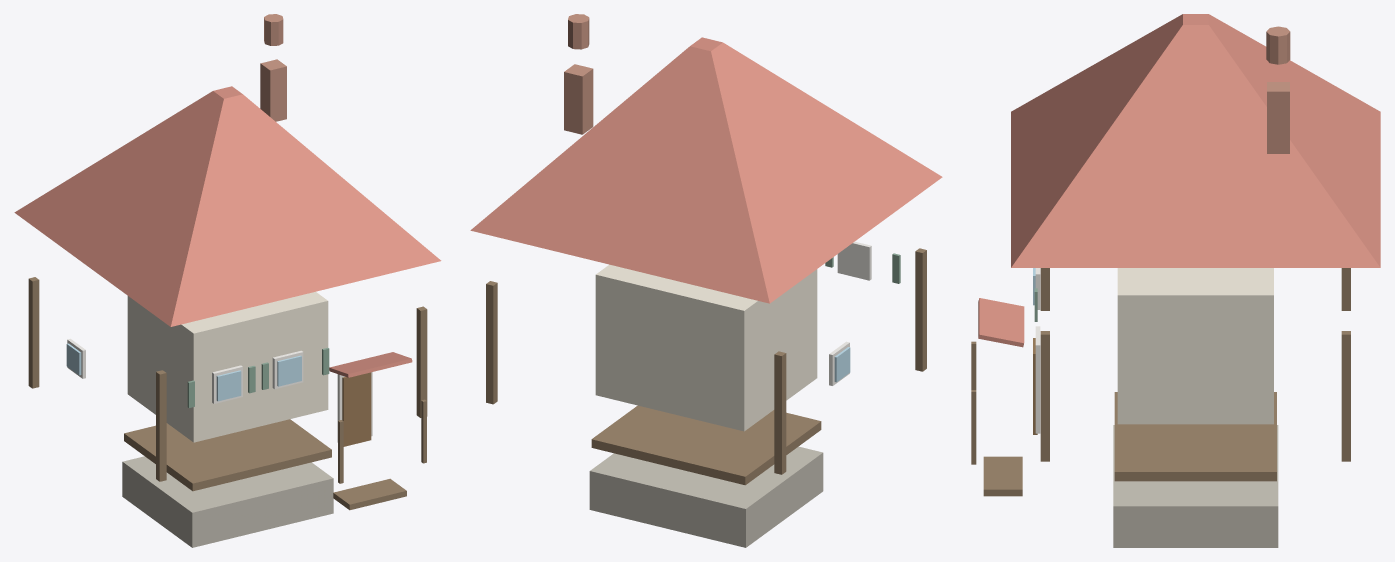
Rendered from house.glb.
The picture shows the model from 3 angles, left to right: view 1: azimuth 30°, elevation 25°; view 2: azimuth 150°, elevation 25°; view 3: azimuth 270°, elevation 25°; orthographic projection. The views are drawn at different scales.
Parts seen in each view (by area): view 1: House; view 2: House; view 3: House.
Part boxes in pixels (x1=…): House: x1=14, y1=14, x2=441, y2=547; House: x1=470, y1=14, x2=942, y2=547; House: x1=971, y1=14, x2=1380, y2=547.
Size of the model in its own units: 4.09 by 6.28 by 4.46.
